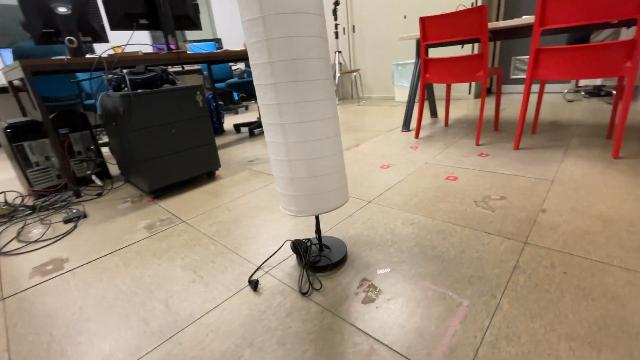Chair: (512, 0, 640, 164), (408, 1, 504, 150)
Lamp: (232, 1, 352, 276)
Stool: (331, 66, 367, 108)
